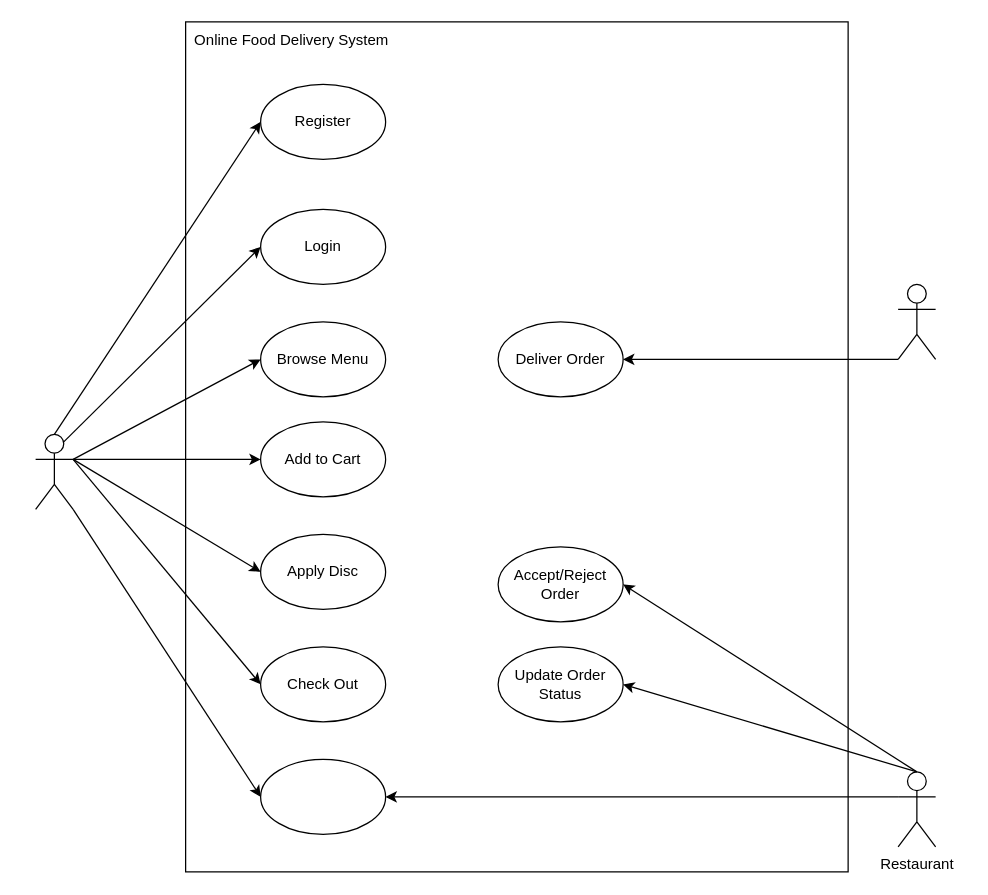
Image size: 988x895. Some labels were removed from this diagram. The centre of each missing label's shape, as x and y in pixels:
Customer: [53,471]
Delivery Driver: [916,321]
Track Order: [322,796]
